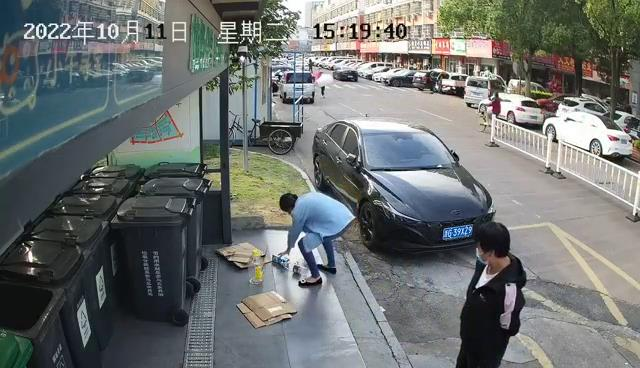person: (455, 221, 528, 368)
suliaozhipin: (248, 247, 266, 285), (279, 260, 308, 275)
worker: (275, 190, 357, 287)
zhizhipin: (235, 290, 299, 329), (215, 240, 272, 270), (272, 253, 291, 270)
